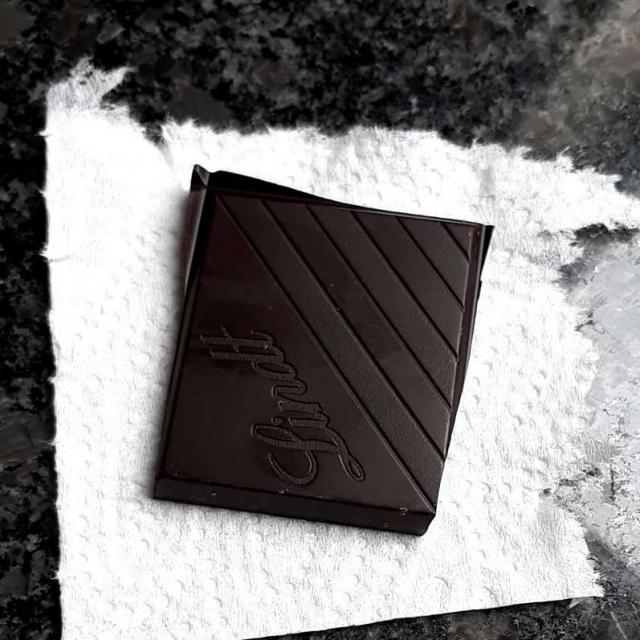dark-chocolate: (142, 166, 502, 535)
